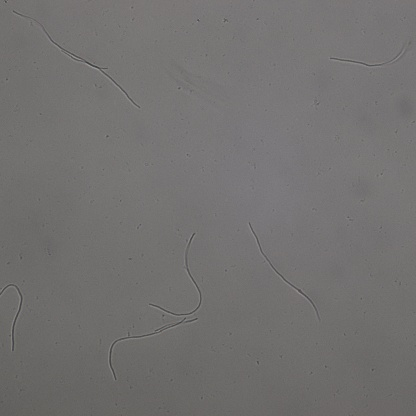Sensitive: (250, 223, 321, 321), (108, 318, 199, 381), (14, 9, 107, 69), (63, 50, 140, 109), (149, 232, 202, 316), (330, 38, 408, 68), (1, 283, 23, 351)
